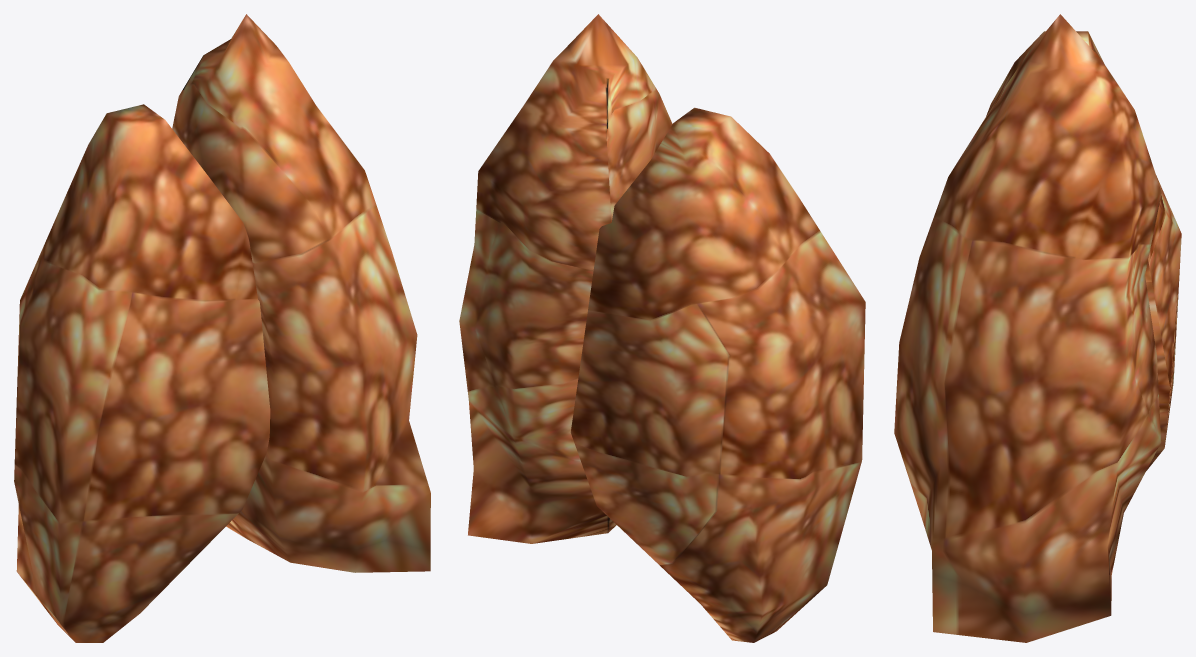
Rendered from thymus1.fbx.
3 renders of one model, left to right at view 1: azimuth 30°, elevation 25°; view 2: azimuth 150°, elevation 25°; view 3: azimuth 270°, elevation 25°, orthographic. The views are drawn at different scales.
Visible parts, largest first — view 1: thymus1; view 2: thymus1; view 3: thymus1.
Boxes of the visible parts, box(x1,y1,x2,y2) form: thymus1: box(14, 14, 430, 642); thymus1: box(459, 14, 865, 642); thymus1: box(894, 14, 1181, 642).
Bounding box in the file's own units: 190 × 304 × 131.
Materials: 1 (1 with a texture image).
